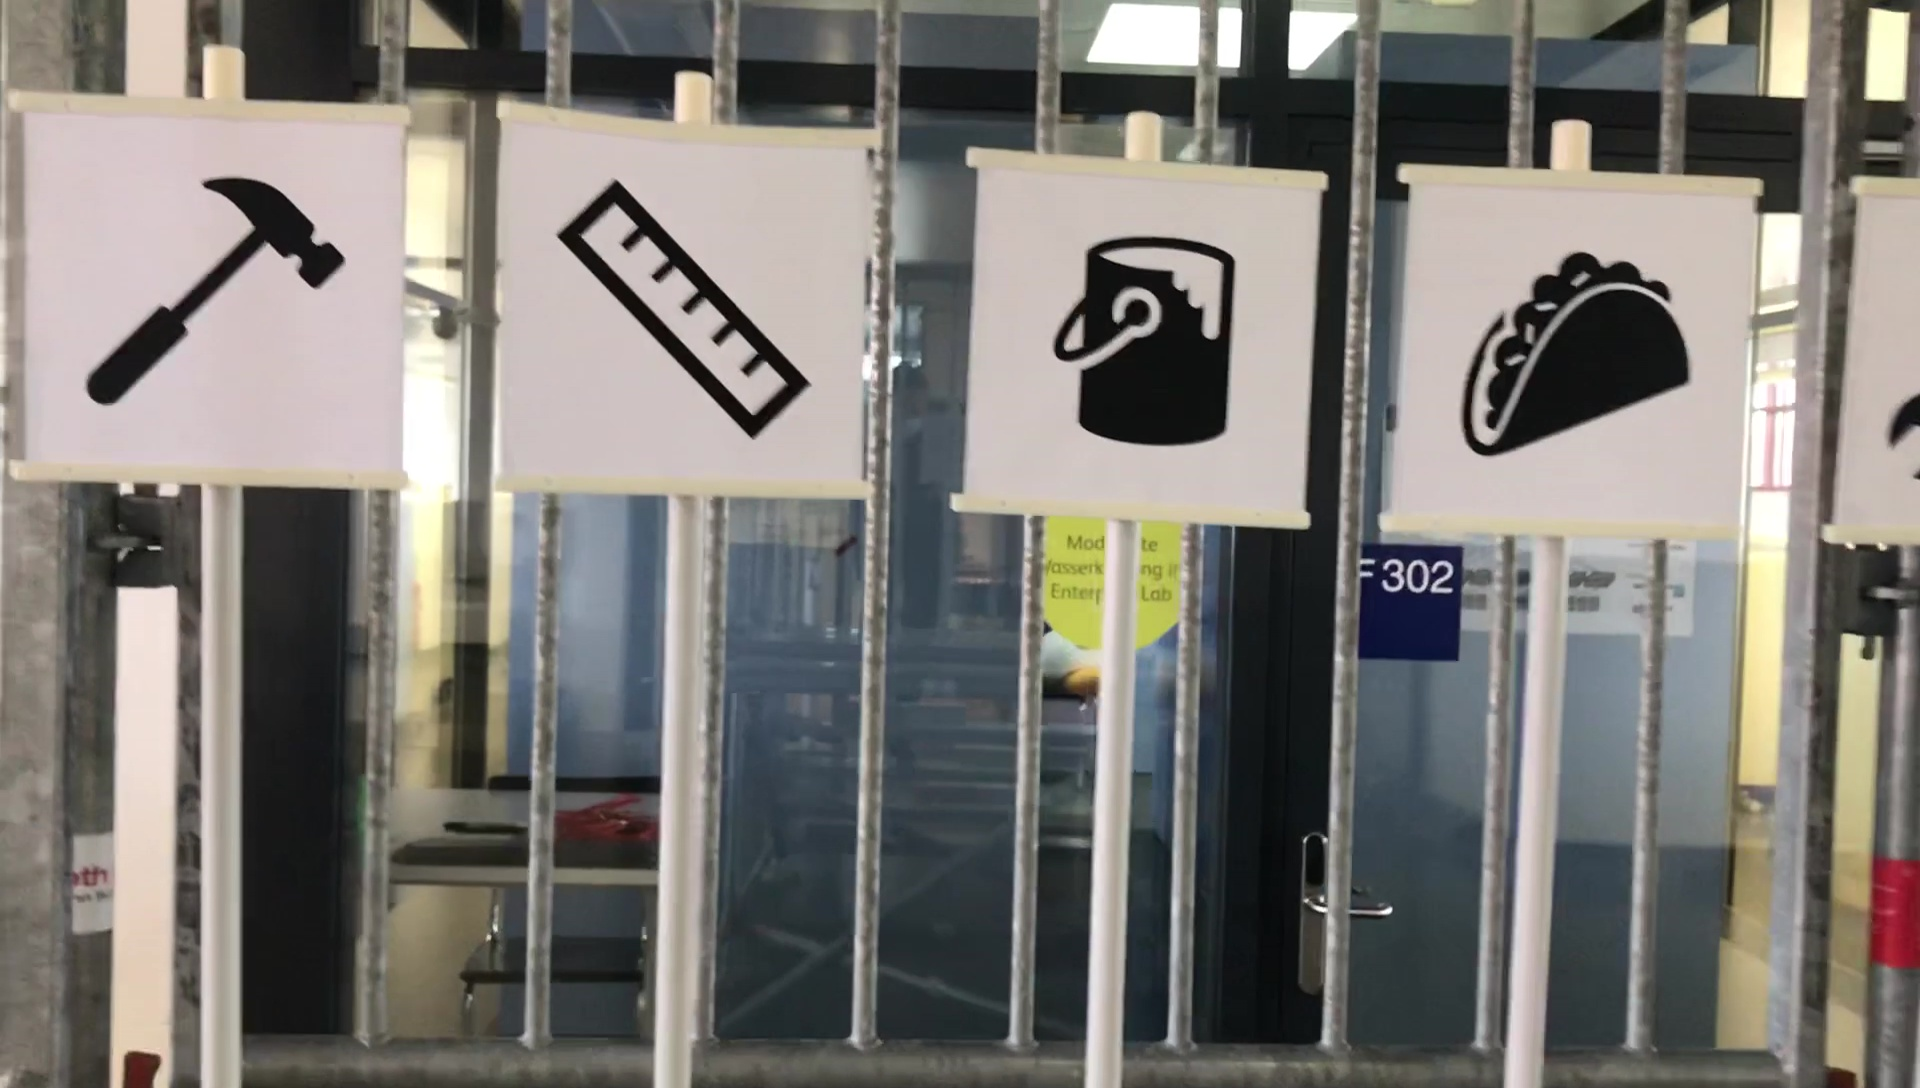bucket: (1044, 222, 1249, 466)
hammer: (86, 165, 345, 408)
ruler: (551, 169, 818, 460)
taco: (1461, 239, 1697, 477)
